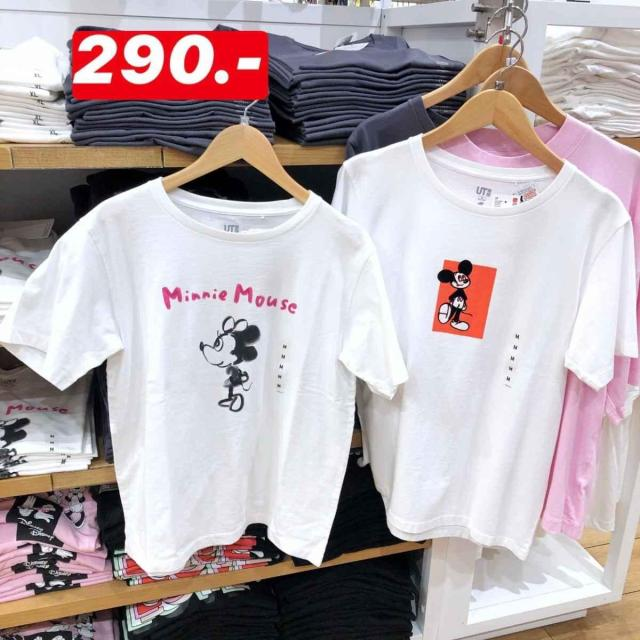Tshirt: (0, 173, 414, 578), (323, 133, 640, 558)
